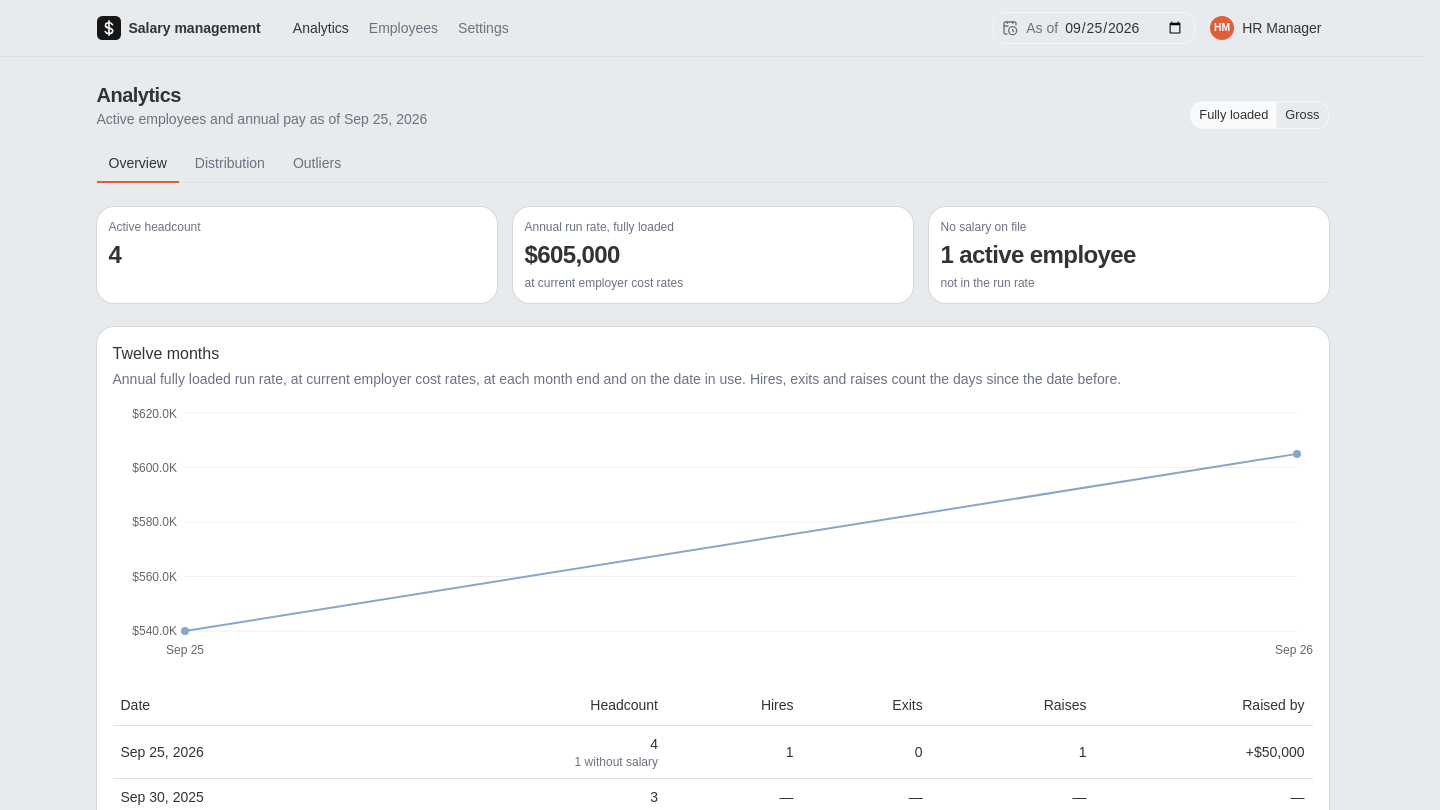
Test: analytics overview › switches basis without a request, and re-sorts the rows by it
This screenshot has width=1440, height=810.
Expected: the text "$605,000" is shown, [524,241,620,268]
Click the radio button labelled "Gross" at (1303, 115), box [1277,101,1328,129]
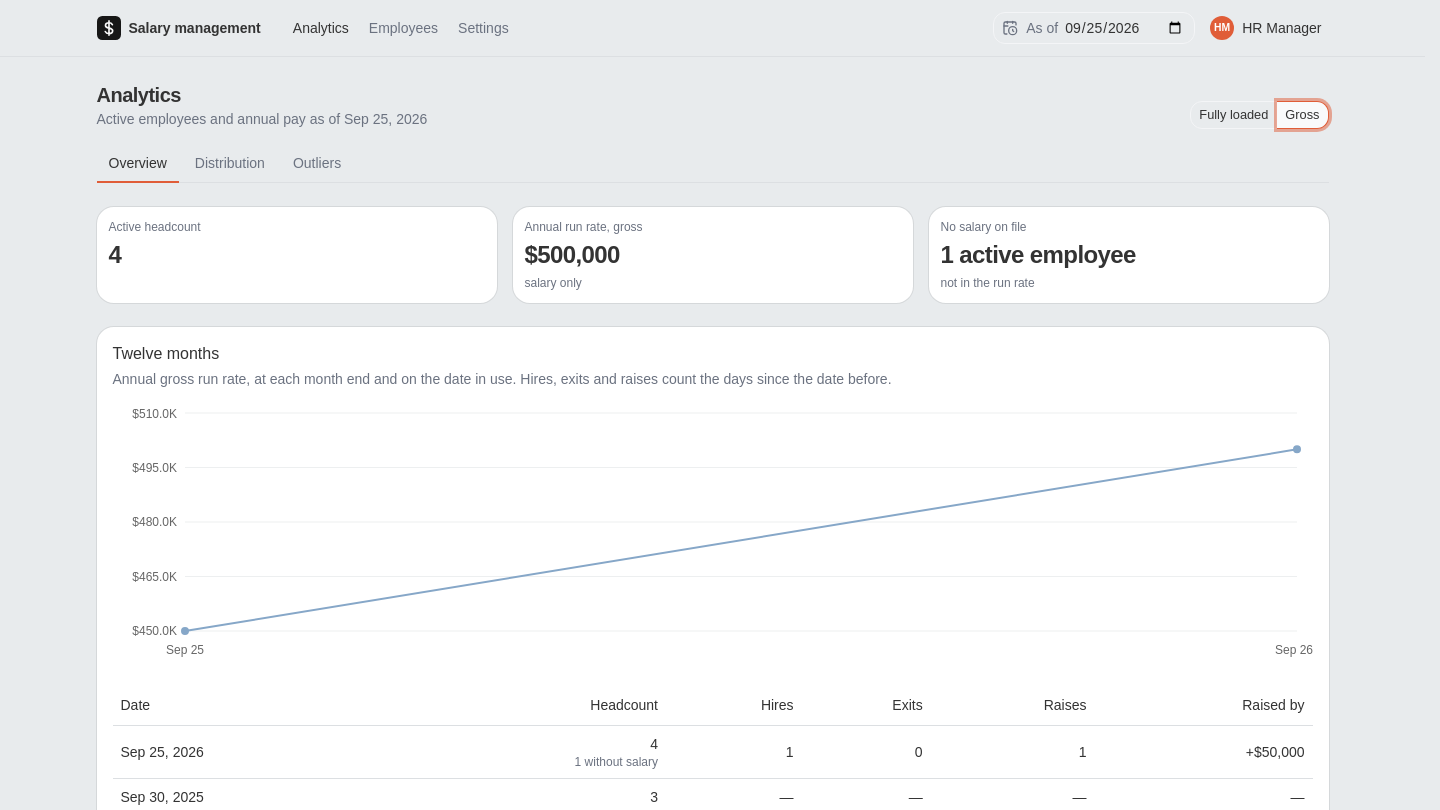
Expected: the text "$500,000" is shown, [524,241,620,268]
